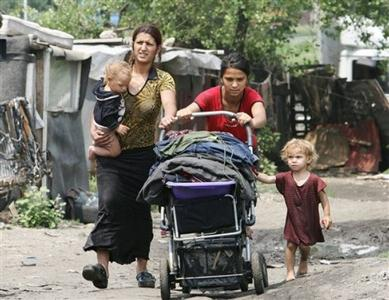person: (177, 53, 270, 180)
